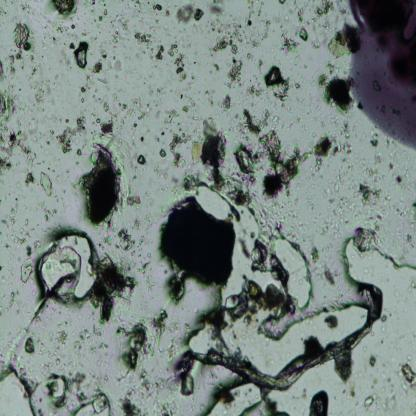Air bubble: (272, 235, 316, 311), (56, 230, 101, 301), (0, 365, 38, 416), (189, 322, 225, 352)
Background material: (353, 150, 394, 254), (281, 0, 353, 57), (75, 143, 126, 223), (207, 1, 270, 62), (236, 221, 290, 290), (258, 129, 308, 202), (89, 252, 138, 325), (189, 118, 229, 194), (318, 154, 354, 236), (222, 274, 288, 318), (36, 244, 82, 298), (78, 60, 124, 112), (116, 311, 154, 371), (162, 53, 198, 116), (152, 310, 184, 367), (320, 73, 357, 116), (69, 323, 108, 353), (309, 132, 334, 175), (253, 198, 297, 222), (71, 391, 112, 416), (168, 123, 191, 167), (234, 140, 265, 172), (0, 90, 26, 128), (89, 116, 118, 150), (5, 51, 42, 77), (229, 174, 255, 211), (231, 109, 264, 138), (265, 64, 289, 103), (109, 9, 132, 49), (167, 267, 189, 308), (35, 223, 69, 249), (1, 332, 22, 374), (48, 371, 69, 409), (0, 128, 26, 156), (304, 330, 326, 362), (7, 218, 34, 244), (176, 0, 204, 25), (237, 82, 264, 106), (56, 126, 79, 154), (120, 394, 149, 416), (14, 21, 35, 51), (130, 27, 154, 52), (138, 261, 156, 294), (70, 369, 88, 401), (19, 365, 39, 393), (29, 126, 54, 148), (334, 354, 354, 381), (51, 0, 78, 20), (224, 60, 243, 88), (399, 362, 416, 393), (309, 390, 329, 416), (286, 222, 310, 243), (116, 226, 135, 252), (399, 232, 415, 262), (72, 108, 89, 136), (128, 100, 148, 123), (18, 258, 36, 283), (92, 0, 107, 29), (74, 39, 88, 70), (184, 170, 202, 194), (37, 200, 57, 221), (157, 398, 180, 416), (119, 134, 136, 158), (39, 346, 52, 377), (21, 144, 37, 168), (203, 0, 226, 16), (219, 388, 237, 408), (33, 297, 51, 317), (39, 172, 53, 197), (217, 93, 232, 116), (178, 28, 193, 50), (180, 374, 195, 396), (44, 80, 57, 105), (8, 199, 20, 226), (309, 173, 318, 209), (140, 369, 154, 392), (406, 200, 416, 231), (296, 97, 314, 114), (162, 109, 178, 128), (339, 119, 354, 139), (0, 154, 13, 176), (403, 165, 414, 190), (333, 141, 352, 155), (12, 183, 26, 201), (323, 264, 335, 285), (238, 240, 250, 260), (116, 370, 133, 384), (228, 209, 245, 223), (130, 0, 143, 18), (23, 336, 35, 355), (46, 112, 62, 126), (392, 174, 406, 190), (332, 292, 345, 309), (205, 88, 216, 108), (143, 188, 155, 206), (23, 316, 35, 334), (54, 328, 69, 342), (24, 172, 38, 187), (88, 368, 102, 382), (155, 167, 169, 181), (323, 313, 337, 327), (126, 194, 142, 206), (155, 43, 165, 62), (36, 88, 46, 107), (145, 212, 154, 233), (262, 107, 271, 128), (60, 49, 71, 66), (83, 0, 96, 14), (123, 66, 135, 81), (8, 290, 18, 308), (309, 245, 319, 262), (363, 394, 375, 408), (53, 20, 67, 32), (368, 130, 379, 145), (325, 61, 336, 76), (168, 42, 179, 57), (192, 58, 210, 67), (320, 241, 333, 253), (263, 353, 274, 367), (212, 58, 221, 75), (348, 380, 356, 399), (95, 359, 110, 369), (105, 216, 115, 231), (29, 80, 44, 90), (0, 60, 7, 81), (229, 323, 238, 339), (136, 233, 144, 251), (161, 4, 171, 18), (151, 0, 161, 14), (119, 114, 128, 129), (244, 314, 255, 326), (126, 385, 138, 396), (280, 104, 292, 115), (389, 148, 399, 161), (234, 345, 243, 359), (20, 3, 31, 14), (256, 58, 262, 78), (382, 398, 392, 410), (388, 161, 398, 173), (59, 207, 67, 222), (376, 336, 388, 346), (156, 375, 164, 390), (76, 352, 84, 366), (0, 214, 8, 228), (156, 84, 164, 98), (272, 116, 280, 130), (92, 382, 102, 393), (157, 148, 167, 159), (330, 114, 340, 125), (48, 32, 57, 44), (276, 0, 291, 7), (138, 153, 146, 166), (397, 206, 405, 219), (72, 178, 82, 188), (290, 116, 300, 126), (133, 220, 142, 231), (90, 117, 101, 126), (103, 235, 112, 246), (15, 115, 23, 127), (194, 23, 204, 32), (292, 81, 302, 90), (153, 108, 161, 119), (74, 300, 82, 311), (389, 386, 395, 400), (26, 244, 32, 258), (30, 116, 39, 125), (408, 282, 416, 292), (68, 33, 78, 41), (171, 176, 181, 184), (145, 236, 153, 246), (146, 85, 154, 95), (370, 355, 376, 368), (102, 374, 110, 383), (376, 397, 382, 409), (101, 48, 107, 59), (81, 29, 89, 37), (154, 99, 163, 106), (334, 269, 341, 278), (54, 346, 60, 356), (38, 346, 44, 356), (37, 338, 44, 346), (380, 314, 387, 322), (0, 196, 7, 204), (284, 14, 291, 22), (244, 388, 251, 396), (130, 123, 138, 130), (70, 42, 76, 51), (38, 406, 43, 416), (5, 243, 12, 250), (40, 12, 47, 19), (76, 148, 82, 156), (0, 261, 4, 272), (164, 22, 168, 33), (50, 331, 54, 342), (407, 355, 413, 362), (314, 116, 321, 122), (22, 205, 29, 211), (150, 62, 157, 68), (122, 103, 128, 110), (35, 315, 40, 323), (57, 321, 62, 329), (133, 172, 138, 180), (54, 194, 59, 202), (200, 402, 204, 412), (41, 116, 46, 124), (0, 6, 4, 16), (321, 120, 326, 128), (412, 404, 416, 414), (25, 104, 30, 112), (402, 294, 407, 302), (354, 400, 360, 406), (56, 359, 62, 365), (372, 378, 378, 384), (250, 232, 256, 238), (155, 17, 159, 26), (20, 168, 29, 172), (381, 326, 386, 333), (55, 74, 60, 81), (303, 389, 306, 400), (42, 40, 46, 48), (68, 320, 73, 326), (363, 269, 369, 274), (362, 345, 367, 351), (311, 132, 317, 137), (16, 160, 21, 166), (10, 84, 15, 90), (0, 178, 5, 184), (412, 333, 416, 340), (311, 80, 315, 87), (149, 53, 153, 60), (140, 135, 144, 142), (51, 304, 55, 311), (94, 34, 97, 43), (71, 25, 76, 30), (64, 320, 68, 326), (342, 388, 346, 394), (148, 253, 152, 259), (381, 387, 385, 393), (136, 52, 140, 58), (88, 50, 92, 56), (161, 130, 165, 136), (0, 307, 3, 315), (242, 230, 246, 236), (146, 22, 150, 28), (242, 333, 246, 339), (29, 332, 35, 336), (355, 372, 358, 379), (316, 107, 321, 111), (334, 396, 338, 401), (304, 64, 308, 69), (70, 16, 74, 21), (17, 310, 21, 315), (65, 119, 69, 124), (134, 166, 138, 171), (62, 188, 66, 193), (374, 368, 379, 372), (11, 0, 16, 4), (0, 231, 3, 237), (386, 309, 392, 312), (249, 334, 253, 338), (156, 138, 160, 142), (37, 162, 41, 166), (66, 169, 70, 173), (39, 398, 43, 402), (112, 56, 116, 60), (387, 378, 391, 382), (63, 42, 67, 46), (389, 312, 392, 317), (137, 254, 142, 257), (99, 30, 102, 35), (46, 20, 51, 23), (45, 25, 48, 30), (52, 169, 55, 173), (48, 160, 50, 166), (47, 167, 51, 170), (32, 11, 35, 15), (76, 161, 80, 164), (56, 175, 58, 180), (30, 108, 32, 113), (48, 66, 50, 71), (372, 384, 374, 389), (33, 0, 38, 2), (43, 36, 46, 39), (83, 22, 86, 25), (84, 12, 87, 15), (18, 88, 21, 91), (41, 55, 44, 58), (42, 160, 45, 163), (61, 197, 63, 201), (2, 21, 4, 25), (91, 36, 93, 40), (42, 108, 44, 112), (4, 0, 6, 4), (28, 313, 30, 316), (413, 350, 415, 353), (60, 312, 62, 315), (256, 320, 258, 323), (41, 26, 43, 29), (37, 223, 38, 226), (17, 10, 18, 12), (6, 5, 7, 7), (5, 12, 6, 14)
Cellulose filter fibre: (185, 284, 384, 392)
Fragment: (159, 198, 235, 293)
Pen: (349, 0, 416, 150)
